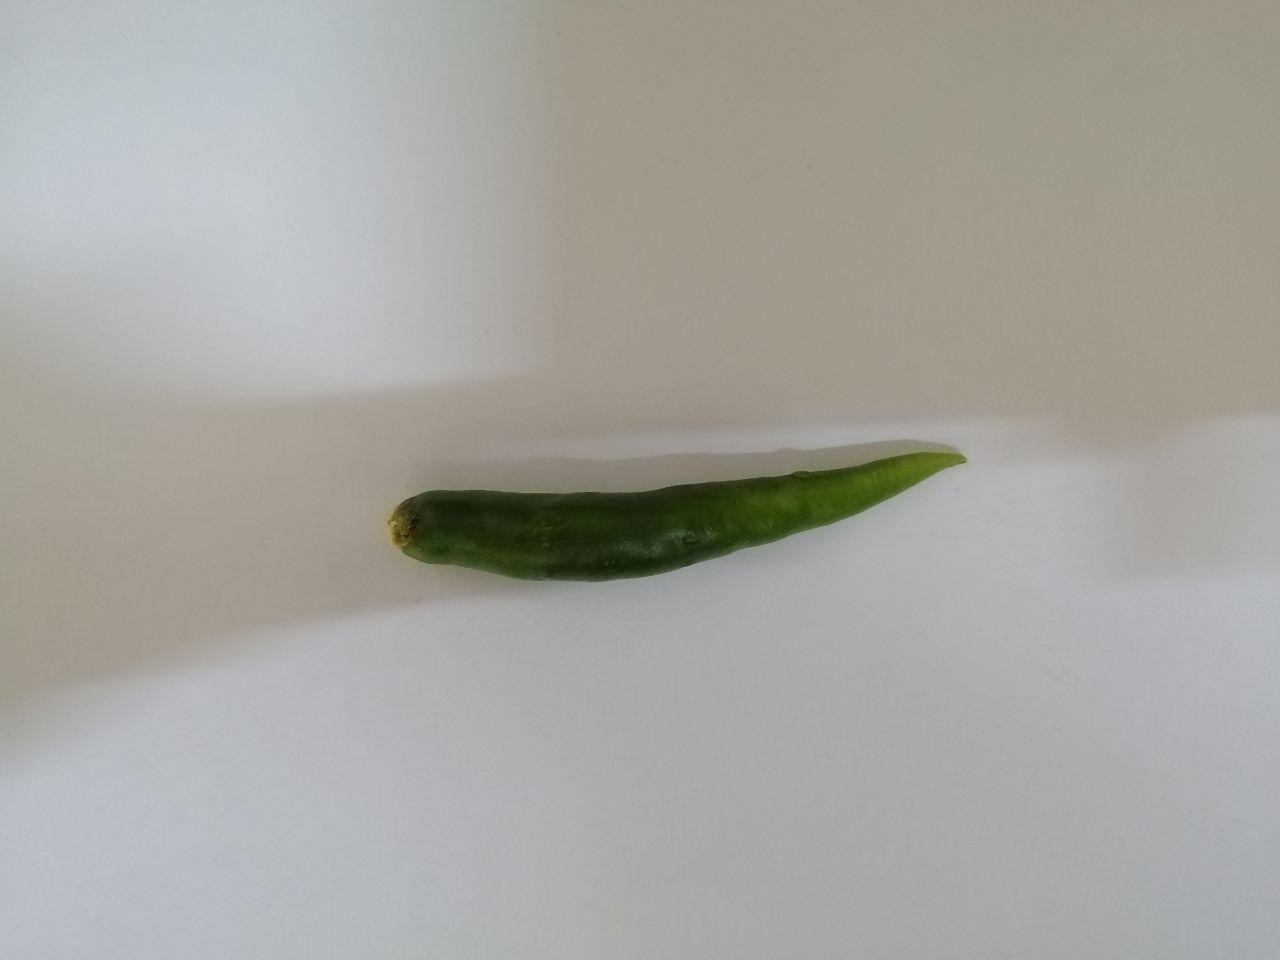lada hijau: (372, 428, 1003, 608)
